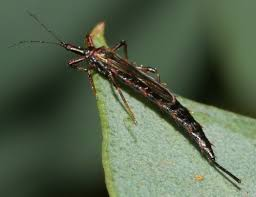Phlaeothripidae: (8, 10, 242, 184)
